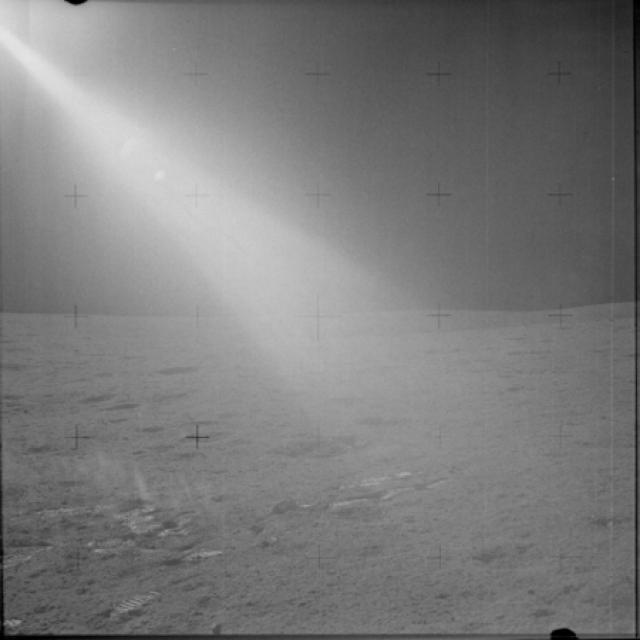crater: (268, 428, 371, 469), (466, 534, 547, 578), (147, 354, 220, 386), (69, 382, 129, 410), (15, 433, 69, 462), (130, 414, 169, 441), (0, 350, 33, 381), (106, 397, 143, 419), (0, 386, 33, 402)
